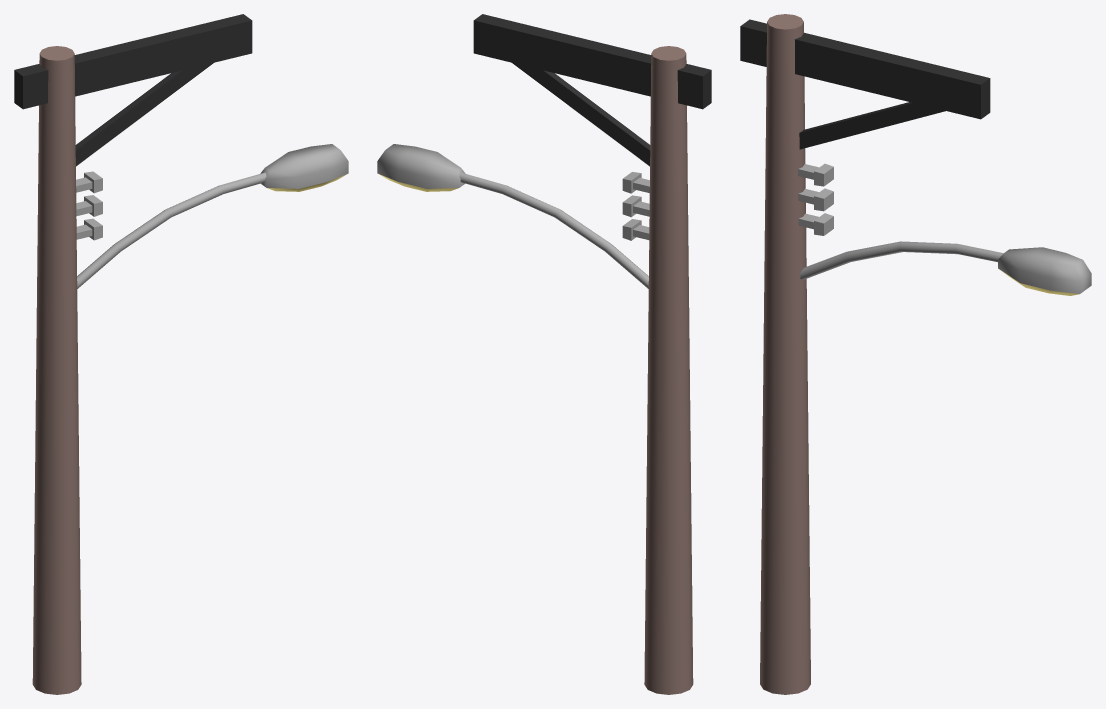
The model's file is poste.fbx.
3 views of the same model, side by side, from view 1: azimuth 30°, elevation 25°; view 2: azimuth 150°, elevation 25°; view 3: azimuth 330°, elevation 25° (orthographic). The views are drawn at different scales.
Visible parts, largest first — view 1: Cube.114; view 2: Cube.114; view 3: Cube.114.
Boxes of the visible parts, x1,y1,x2,y2 form: Cube.114: (14, 14, 348, 694); Cube.114: (377, 14, 711, 694); Cube.114: (740, 14, 1091, 694).
Size of the model in its own units: 269 by 500 by 35.
